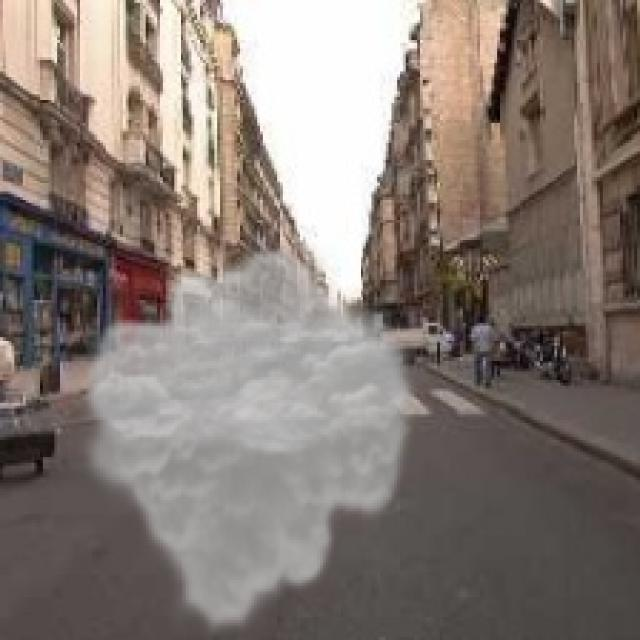smoke: (74, 243, 423, 637)
